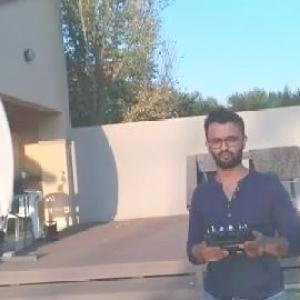follow: (181, 99, 300, 299)
